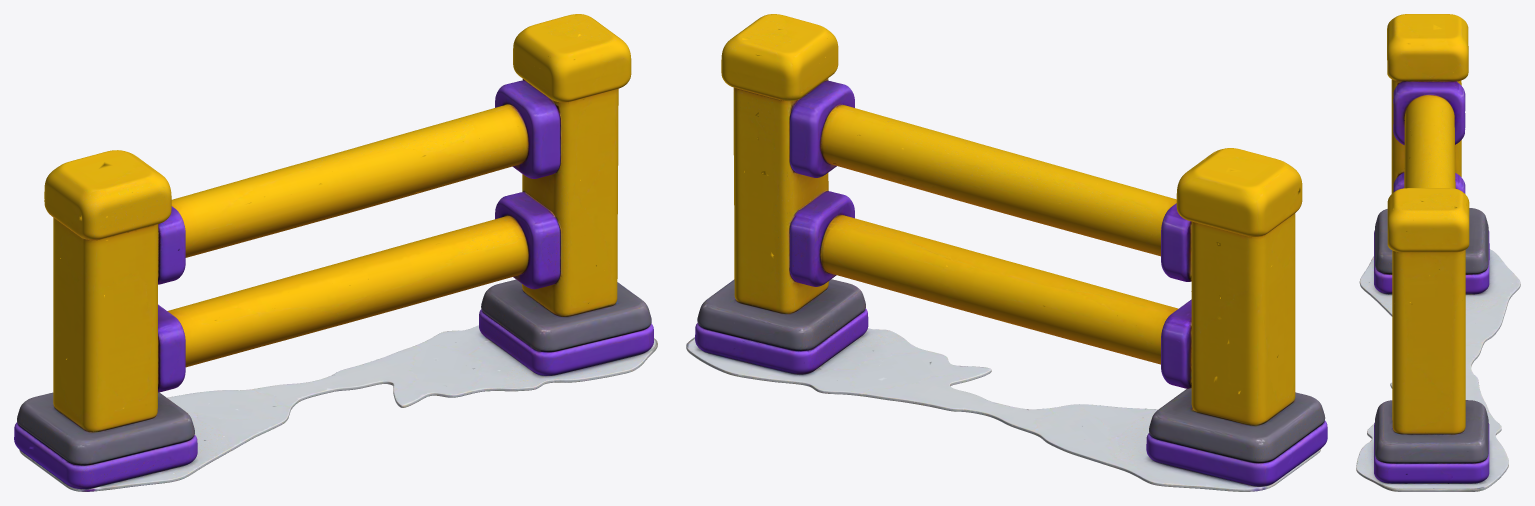
File: model-09-hurdles.glb
3 renders of one model, left to right at view 1: azimuth 30°, elevation 25°; view 2: azimuth 150°, elevation 25°; view 3: azimuth 270°, elevation 25°, orthographic. The views are drawn at different scales.
Parts seen in each view (by area): view 1: node_0; view 2: node_0; view 3: node_0.
Part boxes in pixels (x1,y1,x2,y2): node_0: (14,14,657,491); node_0: (686,14,1327,491); node_0: (1356,14,1520,491).
Size of the model in its own units: 1.07 by 0.5362 by 0.3012.
Materials: 1 (1 with a texture image).
